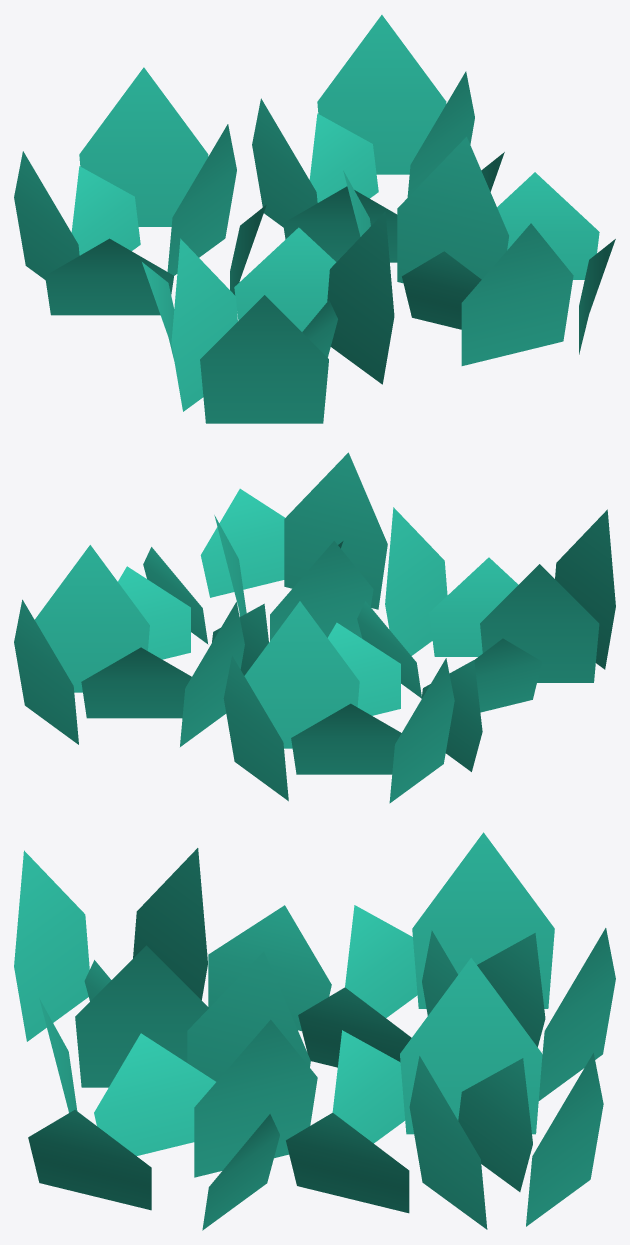
Rendered from grass_leafsLarge.obj.
3 renders of one model, top to bottom at view 1: azimuth 30°, elevation 25°; view 2: azimuth 150°, elevation 25°; view 3: azimuth 270°, elevation 25°, orthographic. The views are drawn at different scales.
Parts seen in each view (by area): view 1: Mesh grass_leafsLarge; view 2: Mesh grass_leafsLarge; view 3: Mesh grass_leafsLarge.
Boxes of the visible parts, x1,y1,x2,y2 form: Mesh grass_leafsLarge: (14,15,615,423); Mesh grass_leafsLarge: (14,452,615,803); Mesh grass_leafsLarge: (14,832,615,1230).
Bounding box in the file's own units: 0.4759 × 0.1425 × 0.4873.
